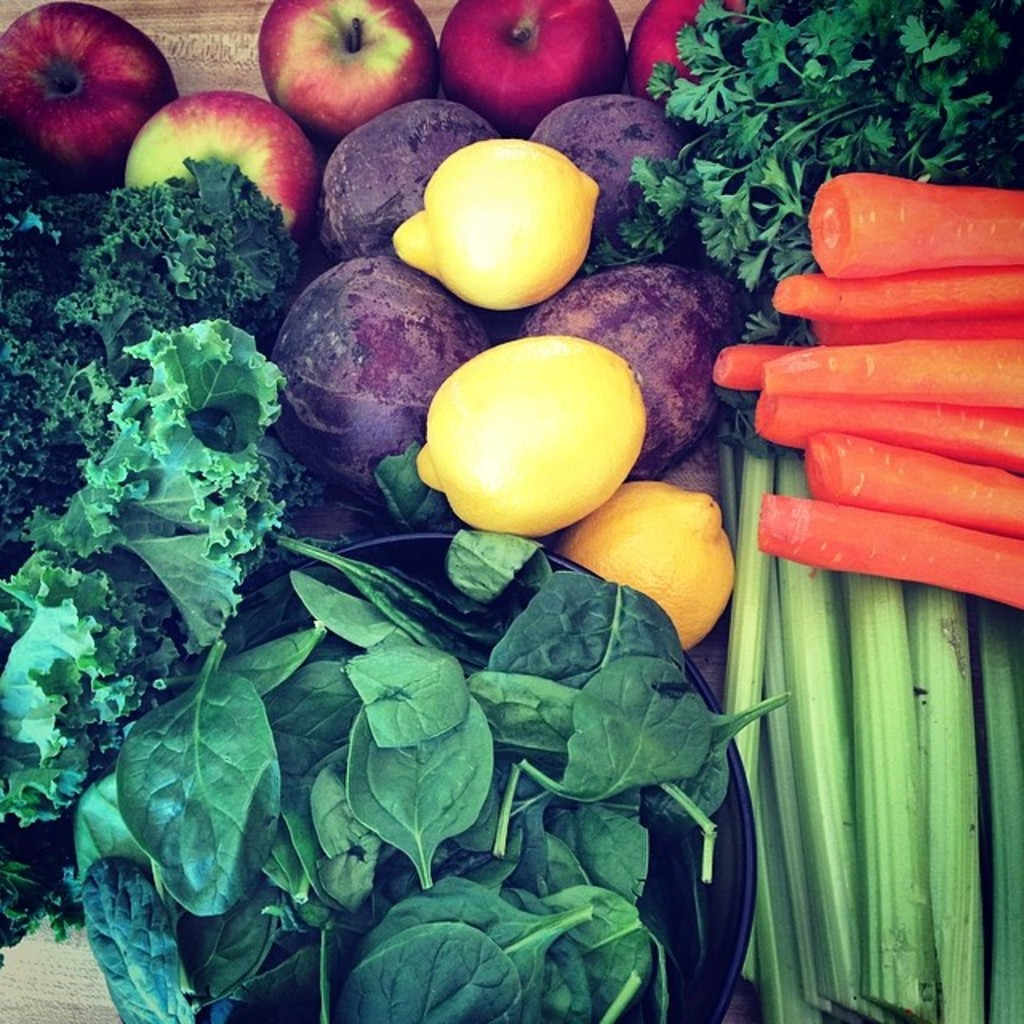Apple: (115, 92, 321, 241), (1, 17, 171, 174), (249, 0, 440, 137), (438, 0, 625, 137), (625, 0, 750, 108)
